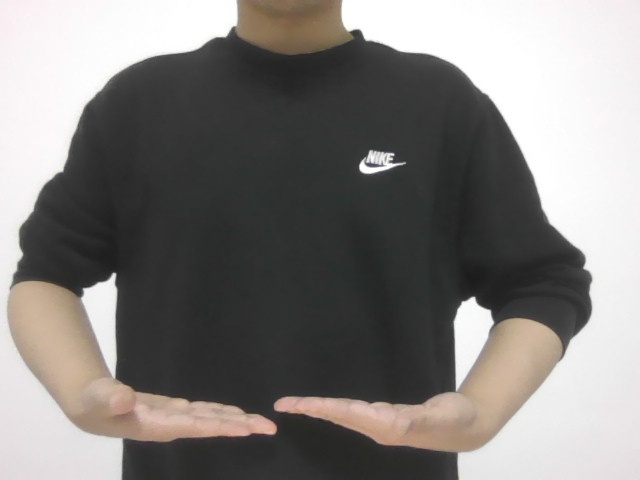today: (75, 338, 495, 473)
